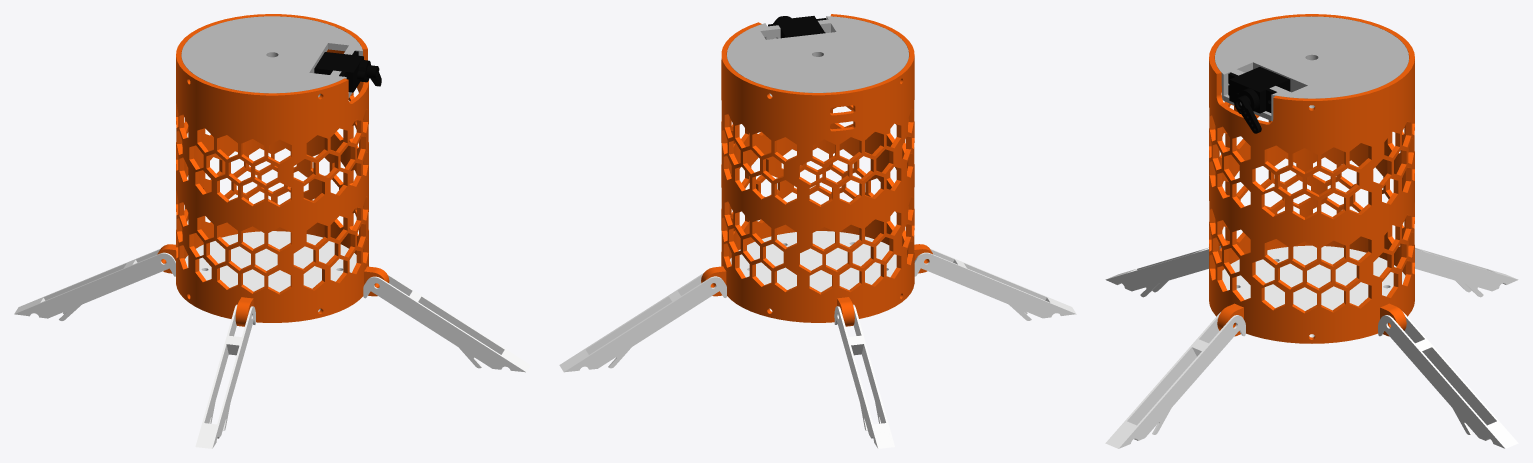
File: Assembly_WS Modul_v2.obj
3 renders of one model, left to right at view 1: azimuth 30°, elevation 25°; view 2: azimuth 150°, elevation 25°; view 3: azimuth 270°, elevation 25°, orthographic. The views are drawn at different scales.
Parts seen in each view (by area): view 1: Solid2:1, Solid2:2, Solid2, Solid2:8, Solid2:6, Solid2:7, Solid2:3; view 2: Solid2:1, Solid2:2, Solid2, Solid2:5, Solid2:7, Solid2:6, Solid2:3; view 3: Solid2:1, Solid2:2, Solid2, Solid2:5, Solid2:8, Solid2:7, Solid2:6, Solid2:3, Solid2:4.
Boxes of the visible parts, x1,y1,x2,y2 form: Solid2:1: [157, 14, 389, 326]; Solid2:2: [181, 16, 362, 97]; Solid2: [185, 231, 356, 311]; Solid2:8: [363, 273, 530, 372]; Solid2:6: [14, 249, 175, 320]; Solid2:7: [195, 304, 255, 448]; Solid2:3: [314, 51, 370, 92]; Solid2:1: [701, 14, 932, 326]; Solid2:2: [727, 16, 908, 96]; Solid2: [730, 231, 896, 311]; Solid2:5: [559, 273, 726, 372]; Solid2:7: [914, 248, 1076, 320]; Solid2:6: [834, 304, 894, 448]; Solid2:3: [768, 16, 826, 38]; Solid2:1: [1209, 14, 1414, 343]; Solid2:2: [1215, 16, 1408, 121]; Solid2: [1222, 245, 1405, 337]; Solid2:5: [1378, 311, 1518, 448]; Solid2:8: [1105, 312, 1245, 448]; Solid2:7: [1105, 245, 1221, 297]; Solid2:6: [1399, 246, 1518, 297]; Solid2:3: [1228, 67, 1290, 113]; Solid2:4: [1234, 95, 1261, 133].
Size of the model in its own units: 8.69 by 7.09 by 8.69.
